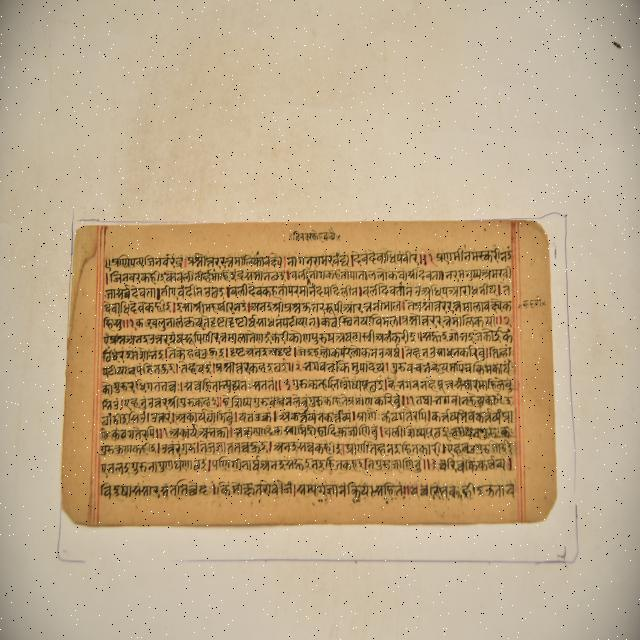text_paragraph: (64, 220, 554, 522)
